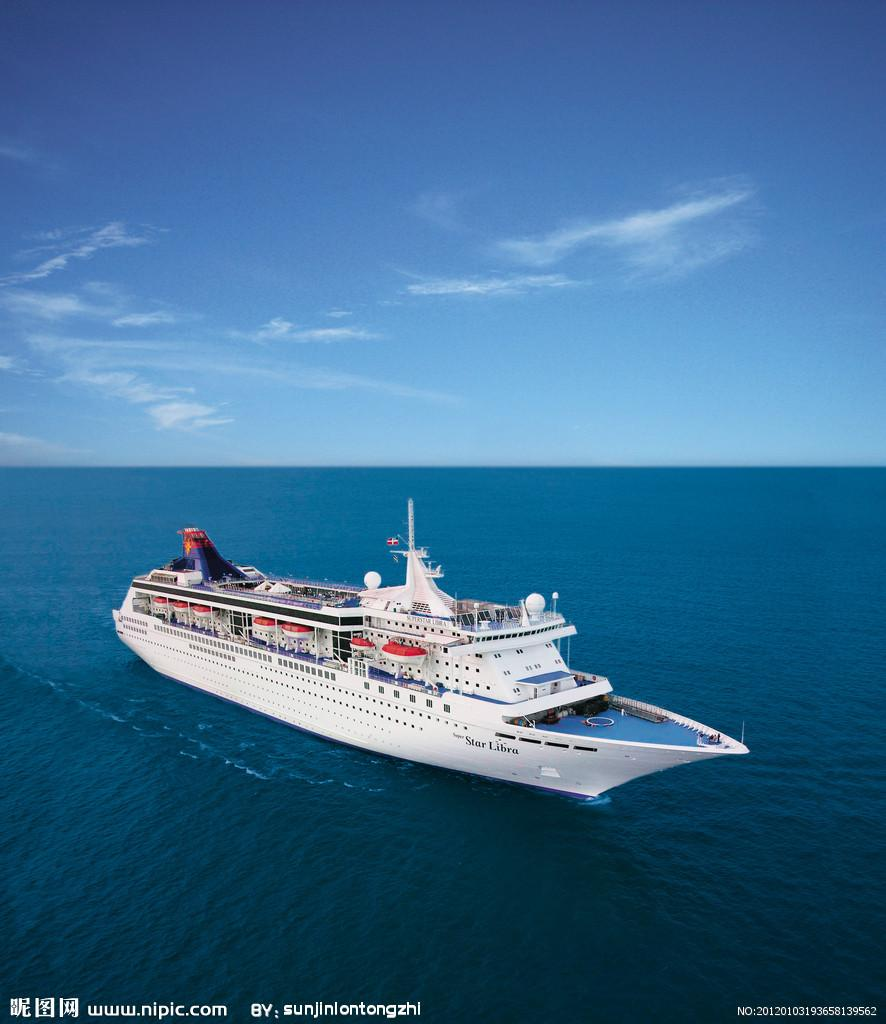youlun: (110, 521, 755, 809)
